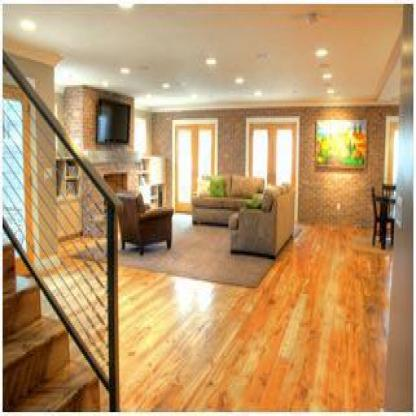other: (172, 122, 213, 204), (246, 116, 293, 184), (164, 270, 217, 314)
